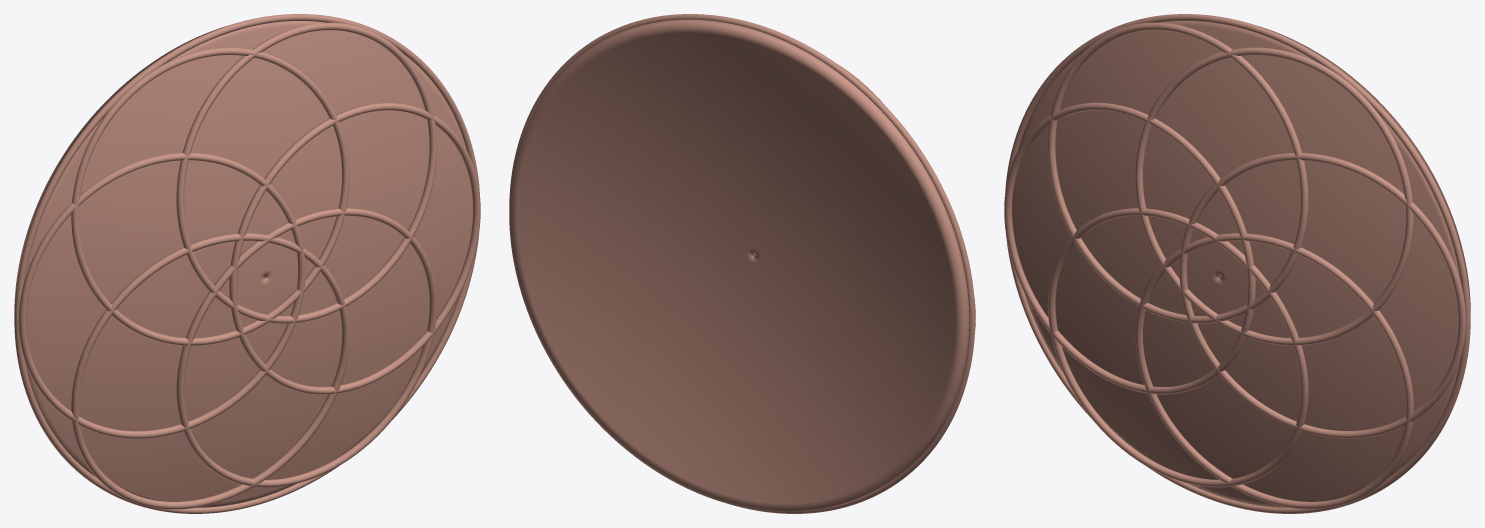
The model's file is flower-copper.glb.
The picture shows the model from 3 angles, left to right: view 1: azimuth 30°, elevation 25°; view 2: azimuth 150°, elevation 25°; view 3: azimuth 330°, elevation 25°; orthographic projection.
Parts seen in each view (by area): view 1: flower continuous metal face, Rolled perimeter.001, Interlaced petal engraving.002, Interlaced petal engraving.003, Interlaced petal engraving.001, Interlaced petal engraving.004, Interlaced petal engraving, Interlaced petal engraving.005; view 2: flower continuous metal face, Rolled perimeter.001; view 3: flower continuous metal face, Rolled perimeter.001, Interlaced petal engraving.001, Interlaced petal engraving, Interlaced petal engraving.002, Interlaced petal engraving.005, Interlaced petal engraving.003, Interlaced petal engraving.004.
Part boxes in pixels (box(x1,y1,x2,y2)): flower continuous metal face: box(14, 21, 472, 507); Rolled perimeter.001: box(14, 14, 479, 513); Interlaced petal engraving.002: box(71, 47, 349, 345); Interlaced petal engraving.003: box(18, 152, 305, 438); Interlaced petal engraving.001: box(176, 22, 437, 323); Interlaced petal engraving.004: box(71, 233, 349, 509); Interlaced petal engraving: box(229, 102, 480, 394); Interlaced petal engraving.005: box(176, 208, 437, 487); flower continuous metal face: box(509, 19, 969, 511); Rolled perimeter.001: box(509, 14, 975, 513); flower continuous metal face: box(1012, 21, 1470, 507); Rolled perimeter.001: box(1005, 14, 1470, 513); Interlaced petal engraving.001: box(1135, 47, 1413, 345); Interlaced petal engraving: box(1179, 153, 1465, 438); Interlaced petal engraving.002: box(1047, 22, 1308, 323); Interlaced petal engraving.005: box(1135, 233, 1413, 509); Interlaced petal engraving.003: box(1004, 102, 1255, 394); Interlaced petal engraving.004: box(1047, 208, 1308, 487).
Bounding box in the file's own units: 2.03 × 2.03 × 0.2199.
